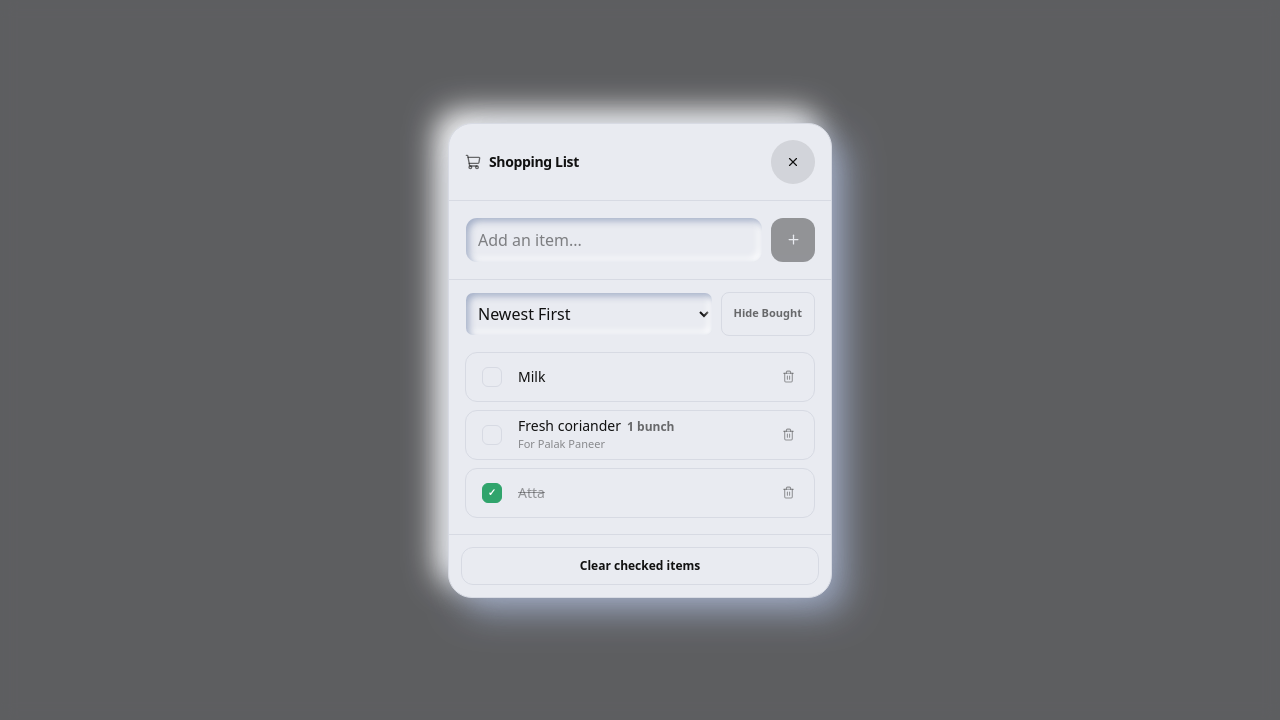
Test: ShoppingListModal — editing › keeps the list and shows an error when the insert fails
This screenshot has width=1280, height=720.
expect the text "Milk" is shown: met, box left=518, top=366, right=545, bottom=386
In the field with placeholder "Add an item...": (614, 240) left=465, top=216, right=763, bottom=262, type "Ghee"
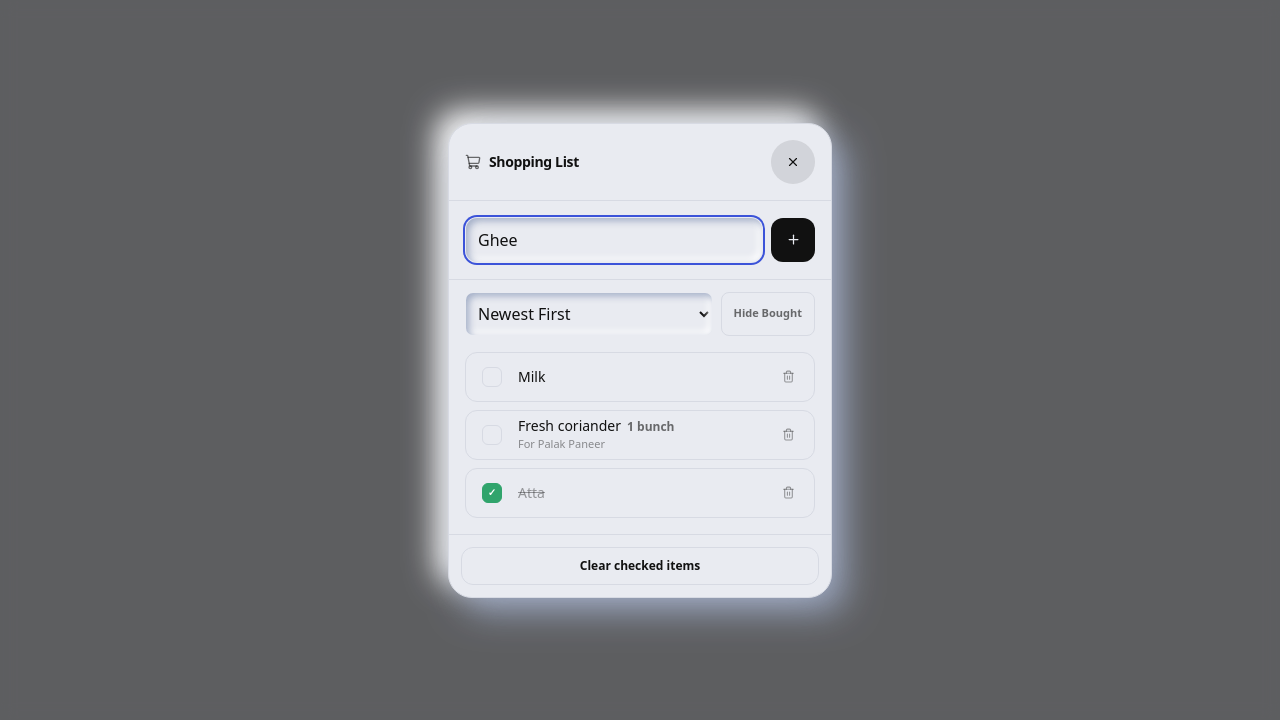
Click the button named "Add item": (793, 240) left=771, top=218, right=815, bottom=262
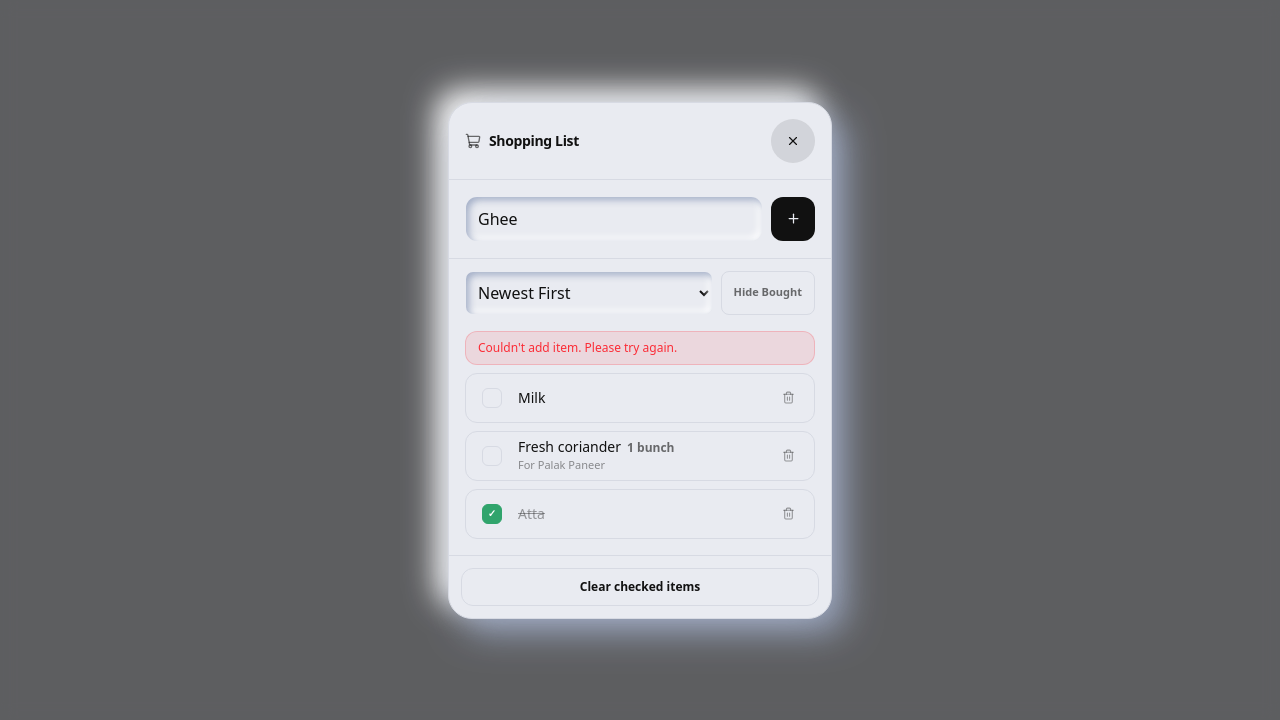
expect the text "Couldn't add item. Please try again." is shown: met, box left=478, top=338, right=677, bottom=356
